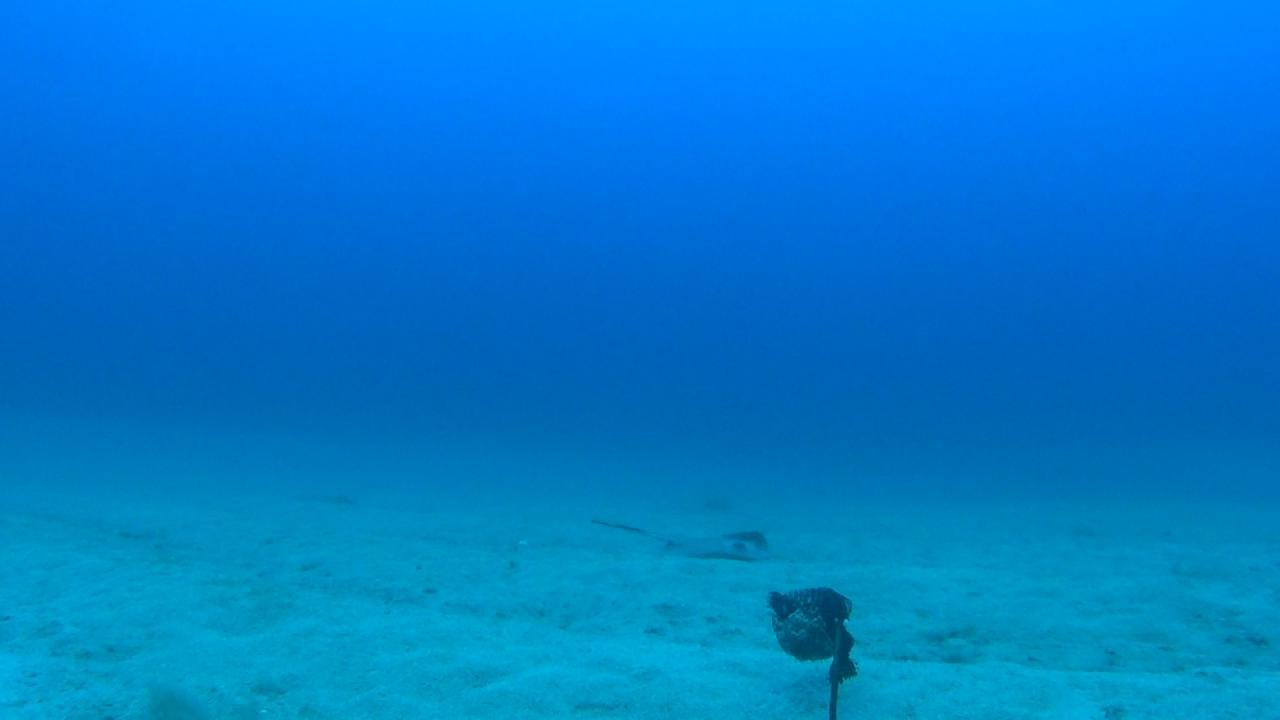dasyatis: (584, 516, 770, 562)
